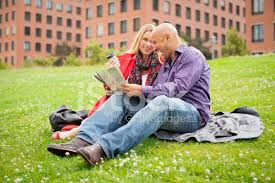white_male: (145, 26, 182, 63)
